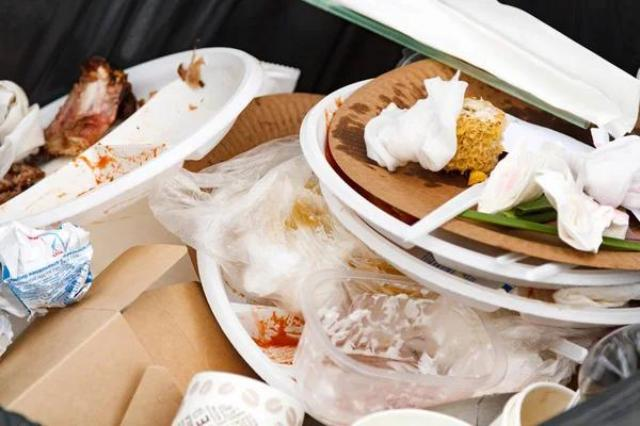Disposable: (300, 83, 640, 289), (0, 49, 263, 227), (321, 186, 640, 327), (198, 251, 297, 397)
Garbage: (1, 46, 640, 426)
contaminated_waste: (0, 49, 263, 227), (295, 271, 507, 425), (329, 59, 467, 218), (443, 219, 640, 271), (461, 76, 560, 129)
